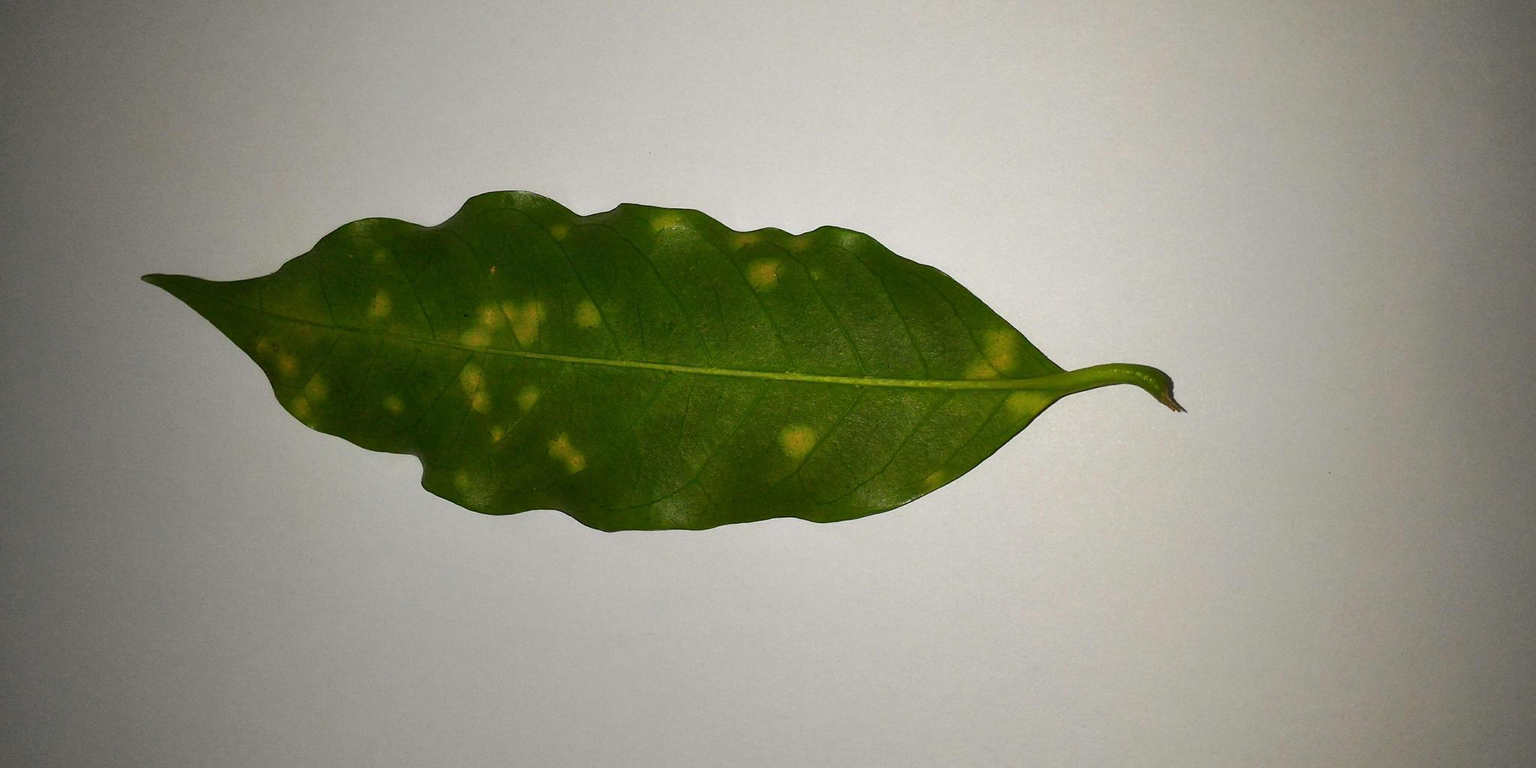Rust: (416, 285, 621, 495)
